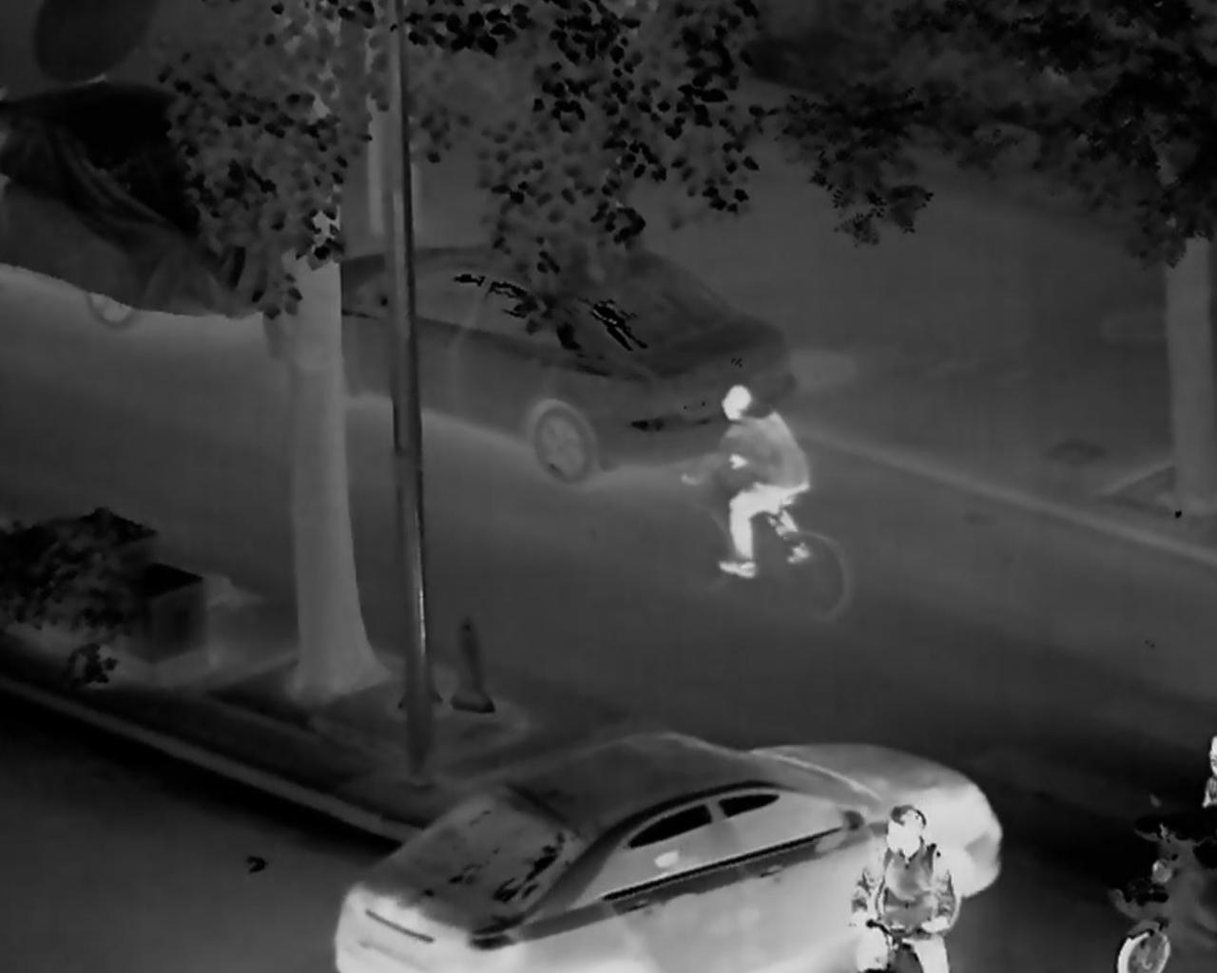person: (678, 387, 810, 583), (849, 801, 958, 971)
